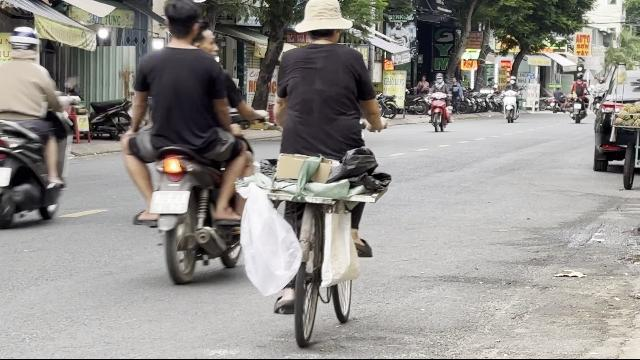helmet: (5, 26, 40, 61)
licenseplate: (150, 190, 190, 214)
motorcyclist: (116, 0, 264, 284), (0, 26, 72, 230), (599, 43, 639, 191)
nohelmet: (160, 0, 202, 44)
